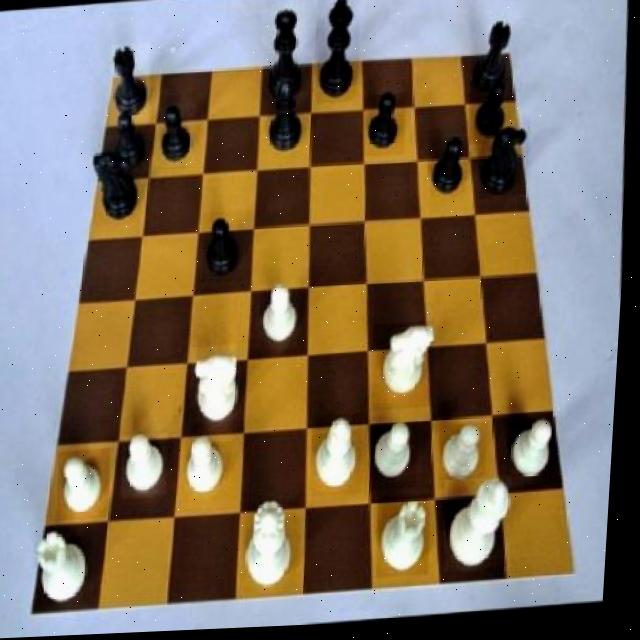bishop: (261, 76, 314, 159)
black-bishop: (313, 0, 364, 106)
black-king: (480, 120, 535, 202), (93, 148, 147, 228)
black-knight: (201, 211, 247, 287), (468, 80, 518, 149), (361, 97, 409, 161), (153, 105, 199, 169), (431, 142, 473, 202)
black-pawn: (259, 4, 309, 109)
black-queen: (109, 44, 155, 126), (466, 25, 515, 101)
black-rook: (314, 416, 371, 500)
white-bishop: (446, 481, 520, 577)
white-king: (375, 324, 443, 415), (193, 346, 255, 427)
white-knight: (62, 449, 119, 521), (375, 423, 426, 495), (443, 425, 495, 493), (258, 282, 305, 355), (186, 436, 235, 506), (125, 433, 175, 500), (510, 423, 562, 484)
white-pawn: (246, 501, 310, 595)
white-queen: (39, 527, 100, 609), (381, 501, 439, 583)
